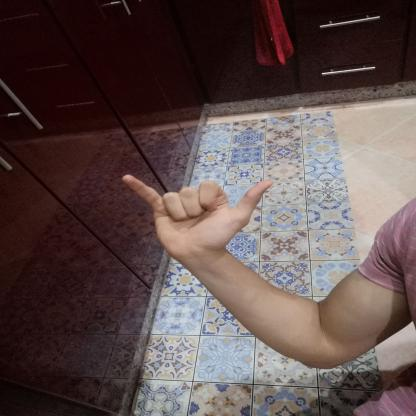YA: (109, 166, 286, 273)
